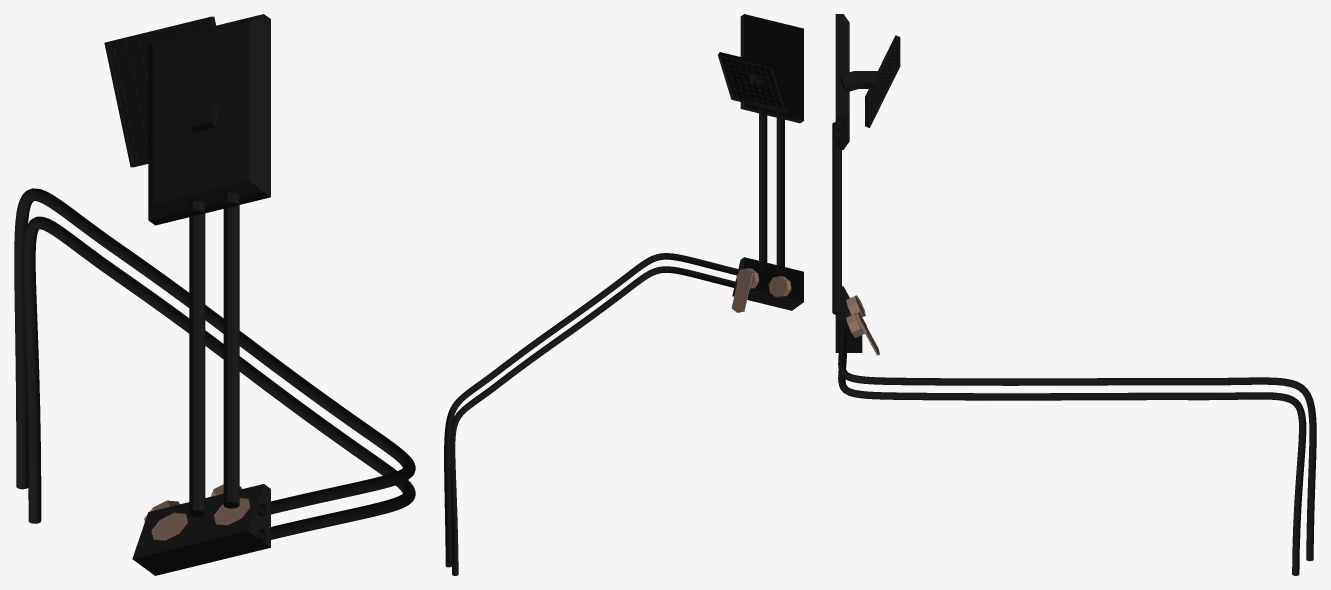
The model's file is Shower Head and Pipeline.fbx.
3 renders of one model, left to right at view 1: azimuth 30°, elevation 25°; view 2: azimuth 150°, elevation 25°; view 3: azimuth 270°, elevation 25°, orthographic. The views are drawn at different scales.
Parts seen in each view (by area): view 1: Shower Head and Pipeline; view 2: Shower Head and Pipeline; view 3: Shower Head and Pipeline.
Boxes of the visible parts, box(x1,y1,x2,y2) form: Shower Head and Pipeline: box(14, 14, 415, 575); Shower Head and Pipeline: box(444, 14, 803, 575); Shower Head and Pipeline: box(832, 14, 1316, 575).
Bounding box in the file's own units: 3.15 × 3.46 × 1.23.
